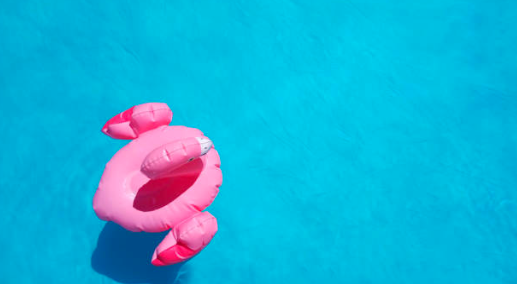Flamingo: (91, 100, 223, 270)
